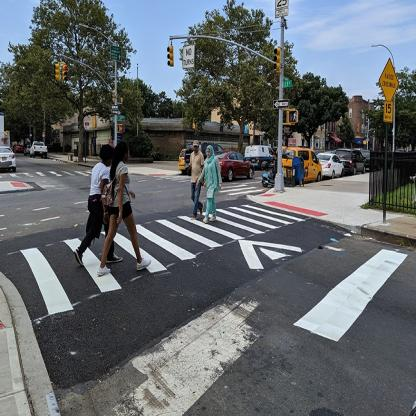Crosswalk: (32, 195, 318, 318)
Walk: (287, 110, 299, 126)
